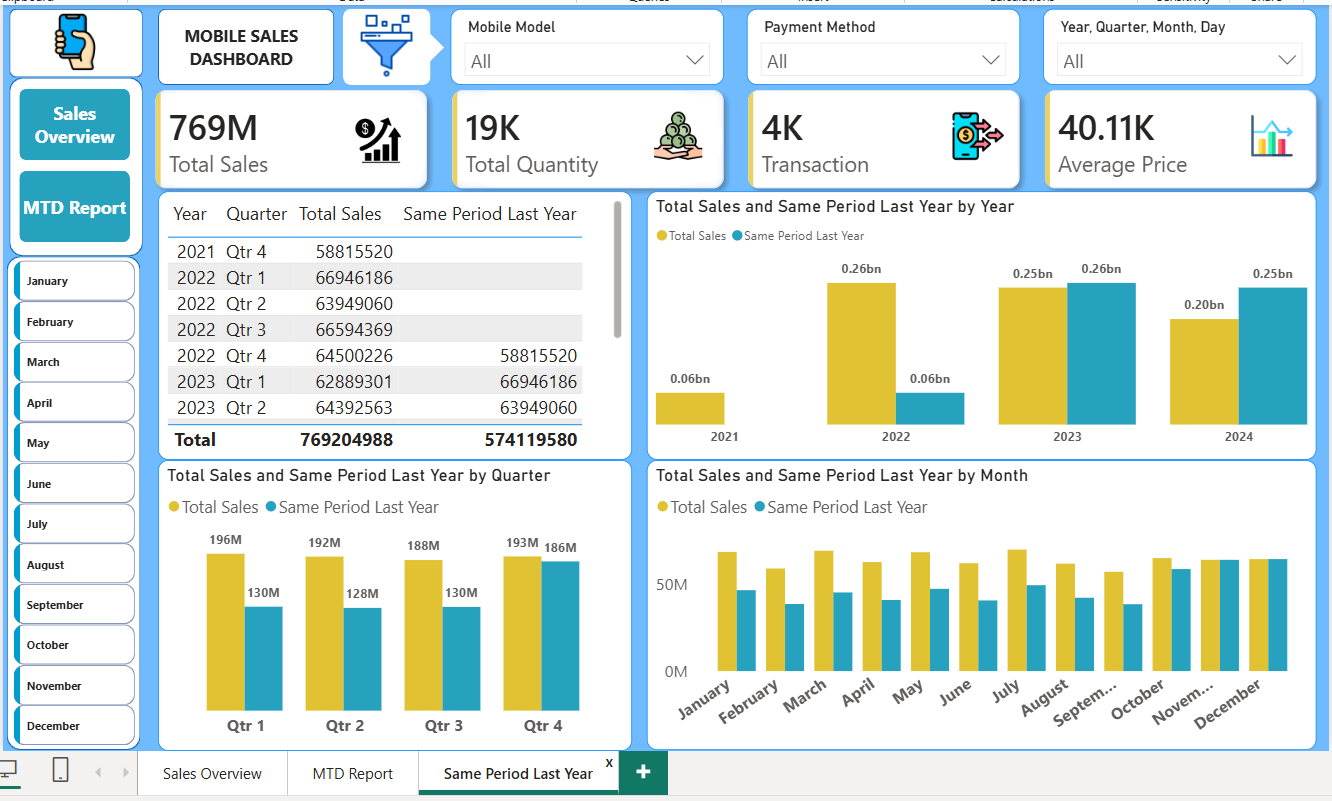

The dashboard page shown, as its layout file describes it:
{"tool":"powerbi","page":{"name":"Same Period Last Year","canvas":[1280,720],"ordinal":2},"visuals":[{"type":"shape","box":[3.6,242.5,129.1,476.5],"z":0},{"type":"shape","box":[361.9,19.3,63.9,43.4],"z":1000},{"type":"shape","box":[6,3.6,129.1,66.4],"z":2000},{"type":"image","box":[39.8,8.4,62.7,54.3],"z":3000},{"type":"shape","box":[6,70,129.1,172.5],"z":4000},{"type":"cardVisual","fields":{"Data":["Mobile Sales Data.Total Sales","Mobile Sales Data.Total Quantity","Mobile Sales Data.Transaction","Mobile Sales Data.Average Price"]},"box":[135.1,70,1144.9,119.4],"z":5000},{"type":"image","box":[328.2,108.6,68,44],"z":6000},{"type":"image","box":[906,101.3,70,50],"z":7000},{"type":"image","box":[621.3,101.3,60.3,49.5],"z":8000},{"type":"image","box":[1189.6,106.2,70,39.8],"z":9000},{"type":"slicer","fields":{"Values":["Mobile Sales Data.Mobile Model"]},"box":[431.9,3.6,264.2,73.6],"z":10000},{"type":"slicer","fields":{"Values":["Mobile Sales Data.Payment Method"]},"box":[717.5,3.8,264,73.8],"z":11000},{"type":"slicer","fields":{"Values":["Custom Calendar.Date.Variation.Date Hierarchy.Year","Custom Calendar.Date.Variation.Date Hierarchy.Quarter","Custom Calendar.Date.Variation.Date Hierarchy.Month","Custom Calendar.Date.Variation.Date Hierarchy.Day"]},"box":[1003.8,3.8,264,73.8],"z":12000},{"type":"shape","box":[328.2,3.6,84.5,73.6],"z":13000},{"type":"image","box":[335.4,8.4,70,61.5],"z":14000},{"type":"shape","box":[149.6,3.6,170.1,73.6],"z":15000},{"type":"textbox","box":[161.7,12.1,136.3,65.1],"z":16000},{"type":"advancedSlicerVisual","fields":{"Values":["Custom Calendar.Date.Variation.Date Hierarchy.Month"]},"box":[0,242.5,135.1,476.5],"z":17000},{"type":"tableEx","fields":{"Values":["Custom Calendar.Date.Variation.Date Hierarchy.Year","Custom Calendar.Date.Variation.Date Hierarchy.Quarter","Mobile Sales Data.Total Sales","Mobile Sales Data.Same Period Last Year"]},"box":[149.6,179.8,457.2,259.4],"z":18000},{"type":"clusteredColumnChart","fields":{"Category":["Custom Calendar.Date.Variation.Date Hierarchy.Year","Custom Calendar.Date.Variation.Date Hierarchy.Quarter"],"Y":["Mobile Sales Data.Total Sales","Mobile Sales Data.Same Period Last Year"]},"box":[621.3,179.8,646.7,259.4],"z":19000},{"type":"clusteredColumnChart","fields":{"Y":["Mobile Sales Data.Total Sales","Mobile Sales Data.Same Period Last Year"],"Category":["Custom Calendar.Date.Variation.Date Hierarchy.Year","Custom Calendar.Date.Variation.Date Hierarchy.Quarter","Custom Calendar.Date.Variation.Date Hierarchy.Month","Custom Calendar.Date.Variation.Date Hierarchy.Day"]},"box":[621.3,439.1,646.7,279.9],"z":20000},{"type":"clusteredColumnChart","fields":{"Category":["Custom Calendar.Date.Variation.Date Hierarchy.Year","Custom Calendar.Date.Variation.Date Hierarchy.Quarter"],"Y":["Mobile Sales Data.Total Sales","Mobile Sales Data.Same Period Last Year"]},"box":[149.6,439.1,457.2,281.1],"z":21000},{"type":"pageNavigator","box":[15.7,80.8,107.4,149.6],"z":22000}]}

Visuals, with their boxes on the page's 1280x720 design canvas (x1, y1, x2, y2). These are canvas units, not pixel positions in the 1332x801 screenshot, which may show the page scaled, cropped or inside an application window:
shape: rect(4, 242, 133, 719)
shape: rect(362, 19, 426, 63)
shape: rect(6, 4, 135, 70)
image: rect(40, 8, 102, 63)
shape: rect(6, 70, 135, 242)
cardVisual - Mobile Sales Data.Total Sales x Mobile Sales Data.Total Quantity: rect(135, 70, 1280, 189)
image: rect(328, 109, 396, 153)
image: rect(906, 101, 976, 151)
image: rect(621, 101, 682, 151)
image: rect(1190, 106, 1260, 146)
slicer - Mobile Sales Data.Mobile Model: rect(432, 4, 696, 77)
slicer - Mobile Sales Data.Payment Method: rect(718, 4, 982, 78)
slicer - Custom Calendar.Date.Variation.Date Hierarchy.Year x Custom Calendar.Date.Variation.Date Hierarchy.Quarter: rect(1004, 4, 1268, 78)
shape: rect(328, 4, 413, 77)
image: rect(335, 8, 405, 70)
shape: rect(150, 4, 320, 77)
textbox: rect(162, 12, 298, 77)
advancedSlicerVisual - Custom Calendar.Date.Variation.Date Hierarchy.Month: rect(0, 242, 135, 719)
tableEx - Custom Calendar.Date.Variation.Date Hierarchy.Year x Custom Calendar.Date.Variation.Date Hierarchy.Quarter: rect(150, 180, 607, 439)
clusteredColumnChart - Custom Calendar.Date.Variation.Date Hierarchy.Year x Custom Calendar.Date.Variation.Date Hierarchy.Quarter: rect(621, 180, 1268, 439)
clusteredColumnChart - Mobile Sales Data.Total Sales x Mobile Sales Data.Same Period Last Year: rect(621, 439, 1268, 719)
clusteredColumnChart - Custom Calendar.Date.Variation.Date Hierarchy.Year x Custom Calendar.Date.Variation.Date Hierarchy.Quarter: rect(150, 439, 607, 720)
pageNavigator: rect(16, 81, 123, 230)
